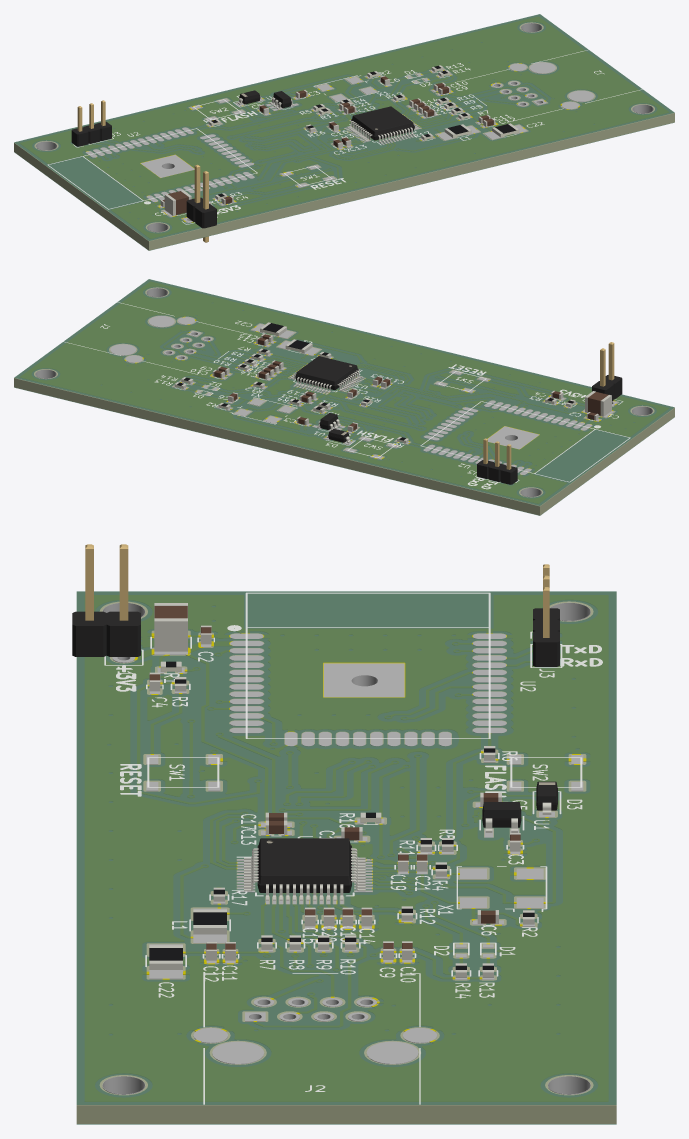
The model's file is board.glb.
The picture shows the model from 3 angles, top to bottom: view 1: azimuth 30°, elevation 25°; view 2: azimuth 150°, elevation 25°; view 3: azimuth 270°, elevation 25°; orthographic projection. The views are drawn at different scales.
Visible parts, largest first — view 1: board_soldermask (×2), board_copper, board_PCB, board_pad, board_silkscreen, LQFP-48_7x7mm_Pitch0.5mm, Pin_Header_Straight_1x02_Pitch254mm, Pin_Header_Straight_1x03_Pitch200mm, C_1210; view 2: board_soldermask (×2), board_copper, board_PCB, board_pad, board_silkscreen, LQFP-48_7x7mm_Pitch0.5mm, Pin_Header_Straight_1x03_Pitch200mm, Pin_Header_Straight_1x02_Pitch254mm, C_1210; view 3: board_soldermask, board_copper, board_PCB, board_pad, board_silkscreen, LQFP-48_7x7mm_Pitch0.5mm, Pin_Header_Straight_1x02_Pitch254mm, Pin_Header_Straight_1x03_Pitch200mm, R_1210 (×2), C_1210, SOT_23_5.
Boxes of the visible parts, x1,y1,x2,y2 form: board_soldermask (×2): (14,14,674,250); board_copper: (20,17,667,238); board_PCB: (14,15,674,250); board_pad: (35,23,653,232); board_silkscreen: (47,49,642,224); LQFP-48_7x7mm_Pitch0.5mm: (347,106,418,143); Pin_Header_Straight_1x02_Pitch254mm: (186,164,216,242); Pin_Header_Straight_1x03_Pitch200mm: (71,100,111,146); C_1210: (164,190,191,215); board_soldermask (×2): (14,279,674,515); board_copper: (21,282,668,503); board_PCB: (14,280,674,515); board_pad: (35,288,653,497); board_silkscreen: (63,302,630,489); LQFP-48_7x7mm_Pitch0.5mm: (291,356,362,392); Pin_Header_Straight_1x03_Pitch200mm: (477,438,517,484); Pin_Header_Straight_1x02_Pitch254mm: (592,342,622,401); C_1210: (585,391,611,416); board_soldermask: (76,591,616,1104); board_copper: (85,595,607,1101); board_PCB: (76,592,616,1123); board_pad: (102,602,590,1094); board_silkscreen: (104,592,602,1104); LQFP-48_7x7mm_Pitch0.5mm: (244,838,365,900); Pin_Header_Straight_1x02_Pitch254mm: (72,544,140,656); Pin_Header_Straight_1x03_Pitch200mm: (533,564,559,666); R_1210 (×2): (149,909,226,969); C_1210: (154,603,187,651); SOT_23_5: (482,802,521,832).
Size of the model in its own units: 0.09 by 0.0115 by 0.0403.
